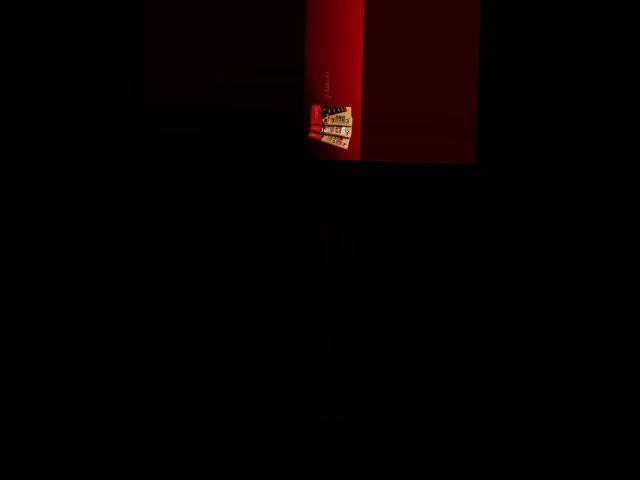chocolate: (305, 127, 352, 149)
